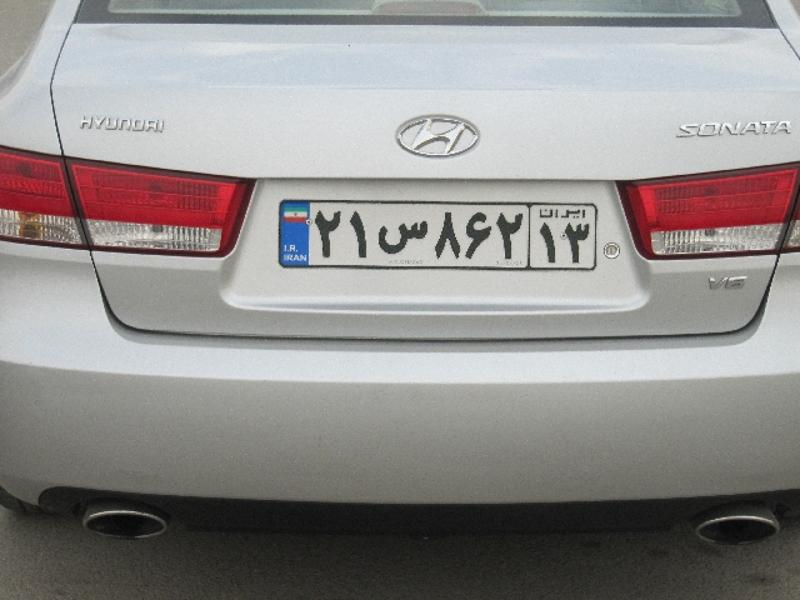Plate: (279, 195, 616, 274)
